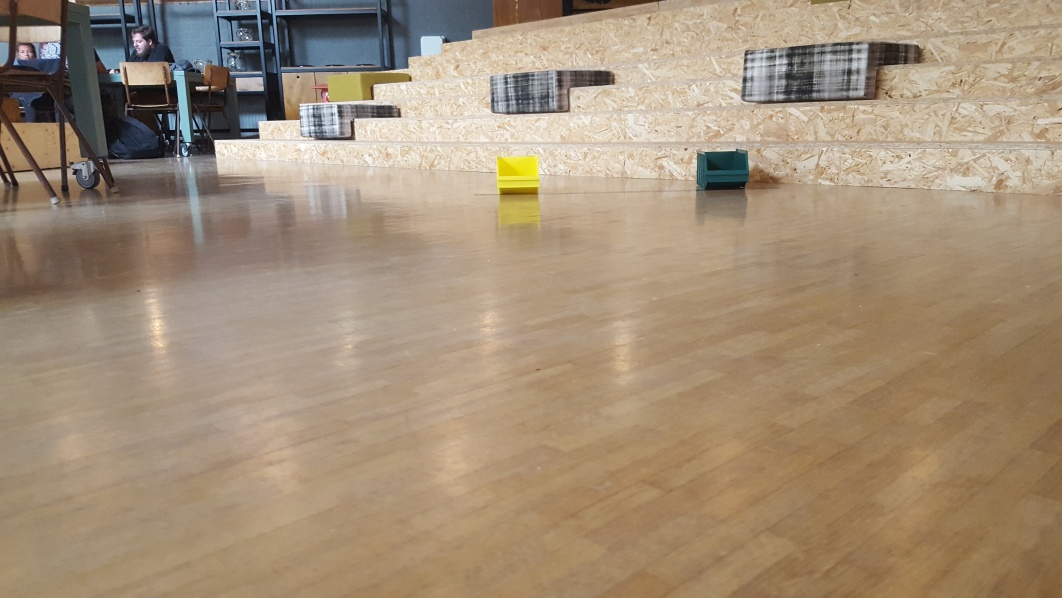tray: (692, 148, 754, 190), (494, 150, 542, 194)
